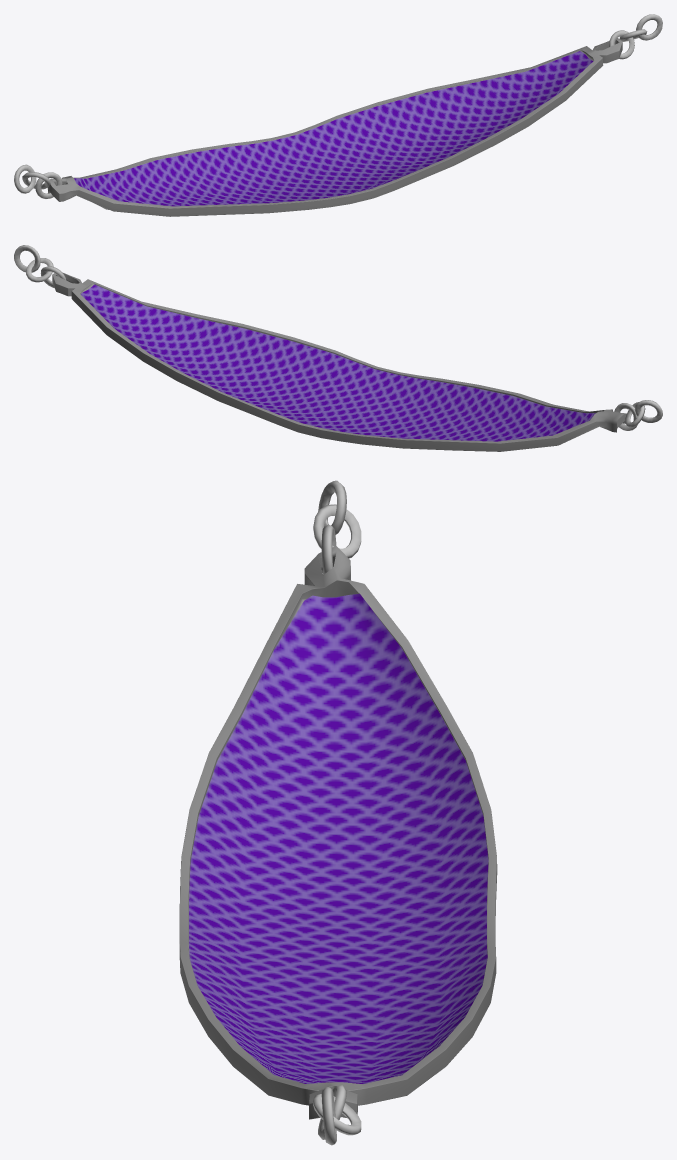
The model's file is SM_Hammock.fbx.
3 renders of one model, top to bottom at view 1: azimuth 30°, elevation 25°; view 2: azimuth 150°, elevation 25°; view 3: azimuth 270°, elevation 25°, orthographic. The views are drawn at different scales.
Parts seen in each view (by area): view 1: SM_Hammock; view 2: SM_Hammock; view 3: SM_Hammock.
Boxes of the visible parts, box(x1,y1,x2,y2) form: SM_Hammock: box(14, 14, 662, 216); SM_Hammock: box(14, 245, 662, 451); SM_Hammock: box(179, 480, 497, 1145).
Bounding box in the file's own units: 291 × 61.68 × 39.8.
